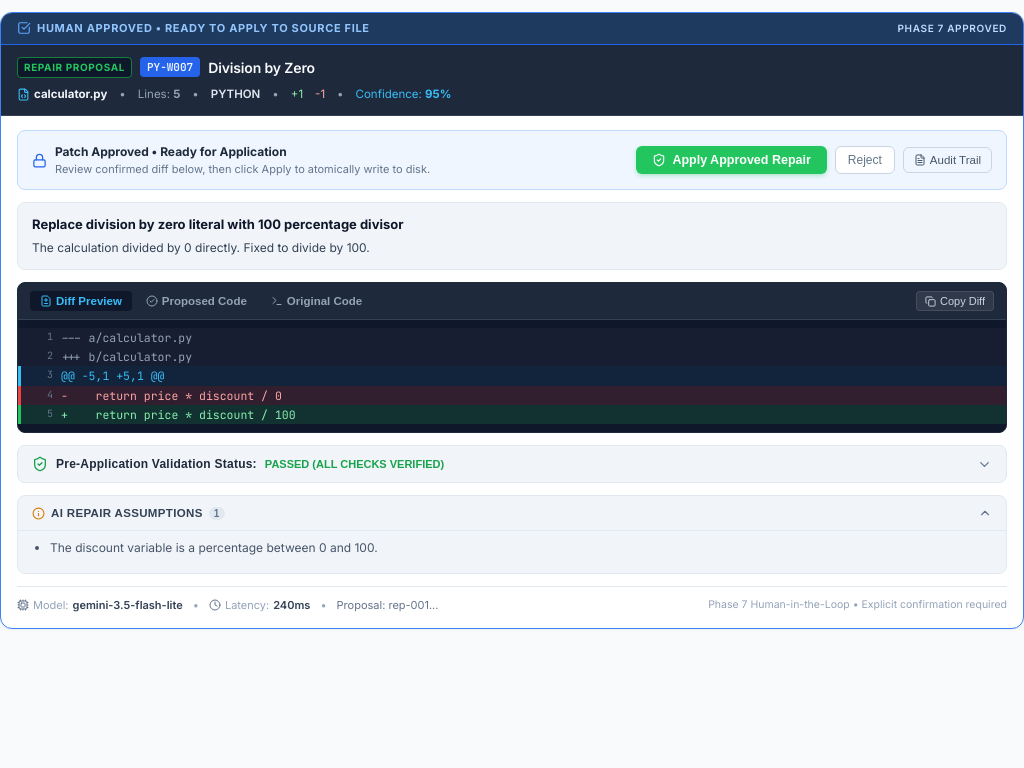
Phase 7 Human Approval & Controlled Patch Application Engine › opens confirmation modal and applies approved repair to disk
The width and height of the screenshot is (1024, 768).
// Click Apply Approved Repair button
Step 1. Click the button with test id "apply-repair-btn" → (732, 160), box [636,146,827,174]
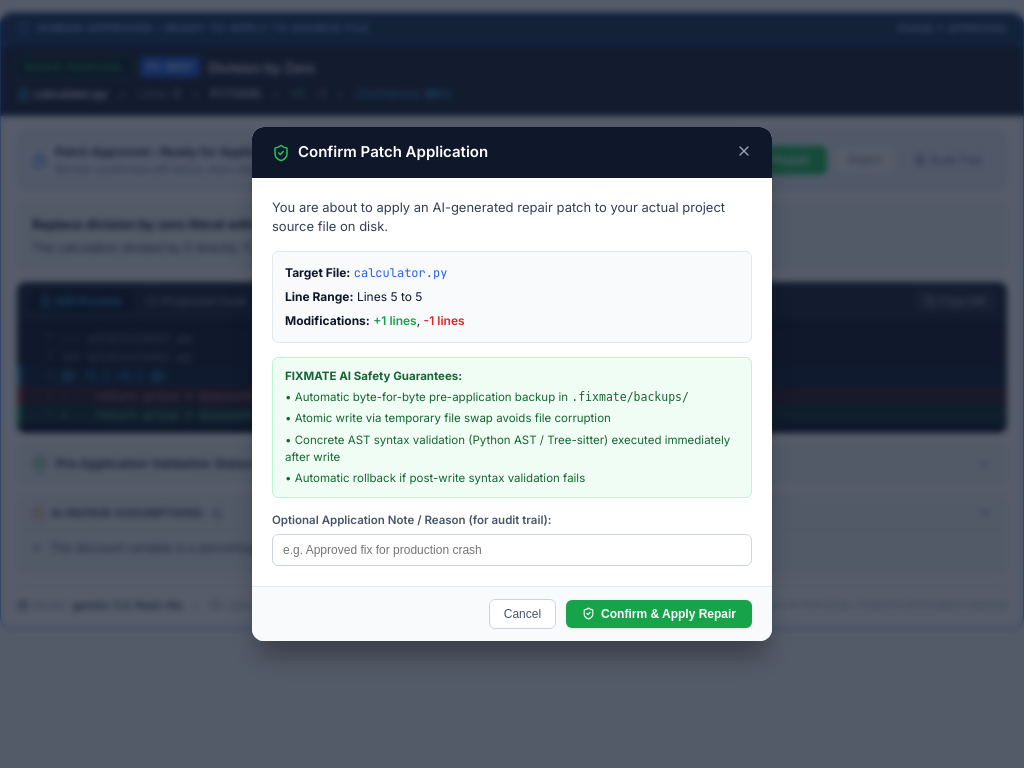
Expected: the element with test id "apply-confirmation-dialog" is shown, [252,127,772,641]
Expected: the heading "Confirm Patch Application" is shown, [298,141,488,164]
Expected: the text "Automatic byte-for-byte pre-application backup" is shown, [285,390,571,404]
// Confirm application
Step 2. Click the button with test id "confirm-apply-btn" → (659, 614), box [566,600,752,628]
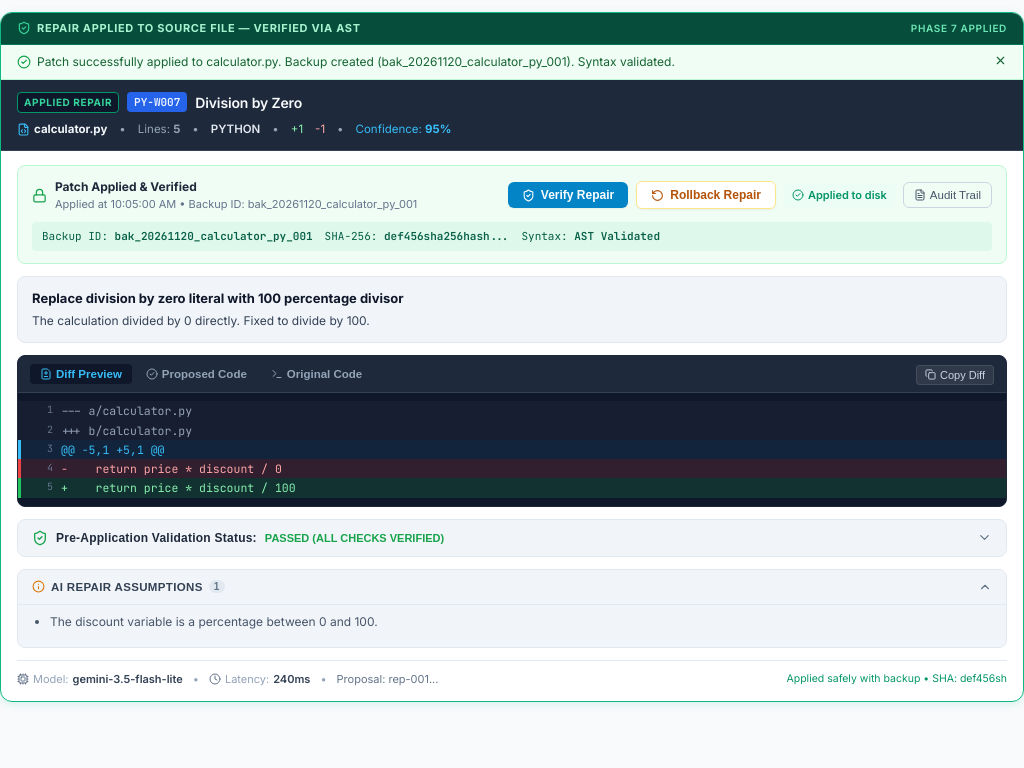
Expected: the element with test id "applied-status-banner" is shown, [1,13,1023,44]
Expected: the text "bak_20261120_calculator_py_001" is shown, [37,54,675,68]
Expected: the button with test id "rollback-repair-btn" is shown, [636,181,776,209]
